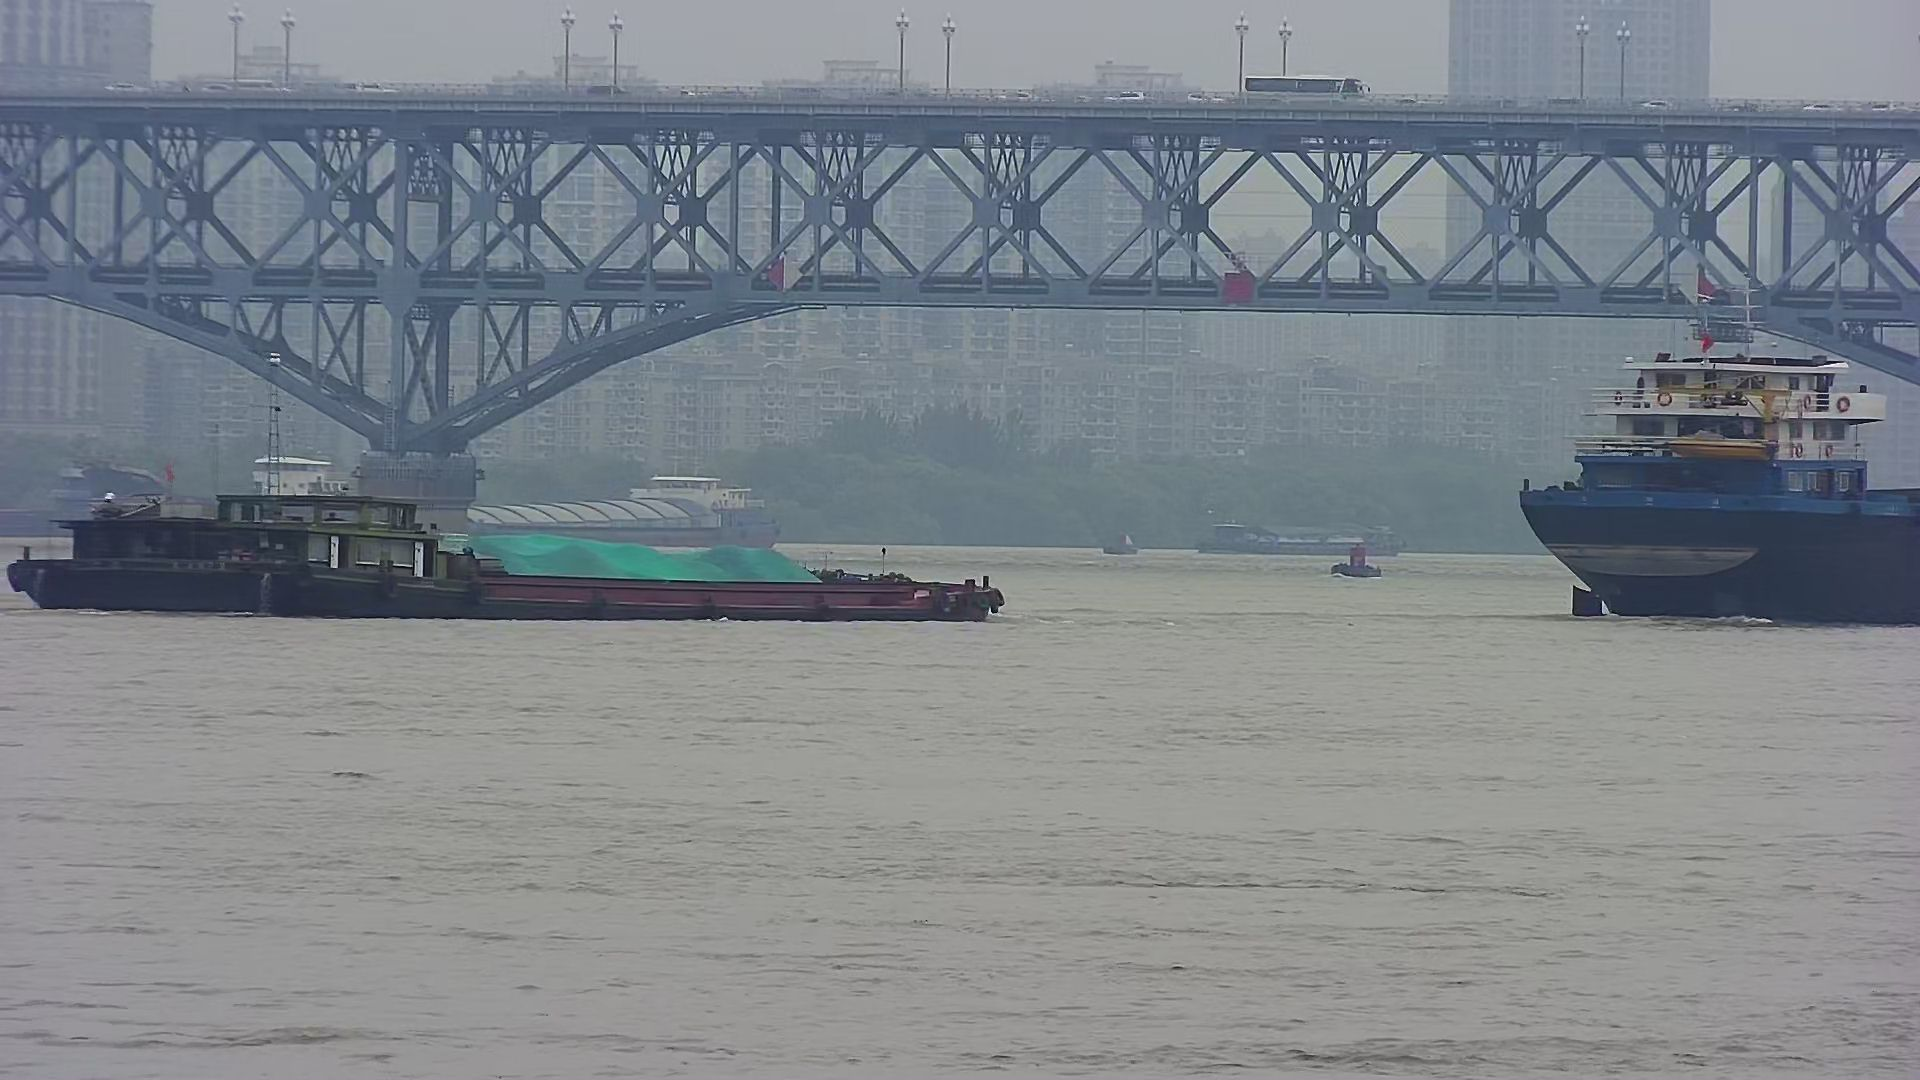boat: (1320, 542, 1400, 582), (1093, 524, 1158, 562)
bridge: (11, 59, 1920, 531)
ship: (1, 347, 1025, 626), (1511, 258, 1920, 640), (421, 454, 806, 553), (1182, 509, 1416, 555)
